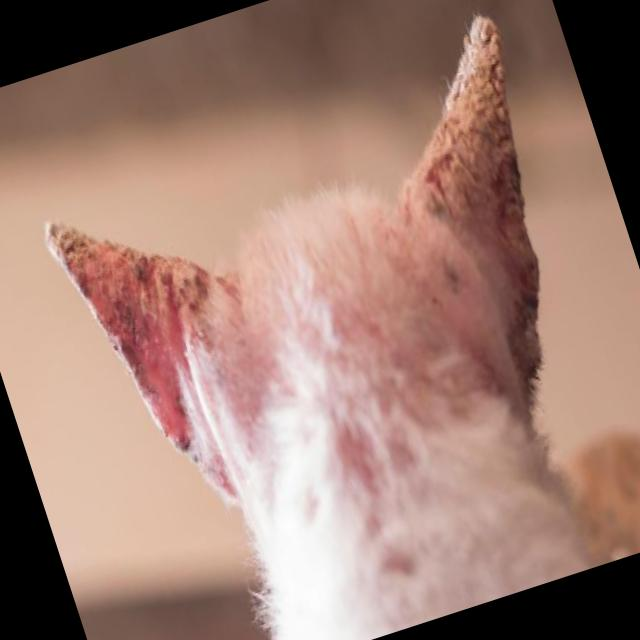Mange: (435, 19, 542, 210), (29, 196, 140, 312), (488, 240, 572, 374), (401, 130, 483, 228), (98, 294, 174, 394), (116, 226, 189, 316), (155, 418, 213, 476)
